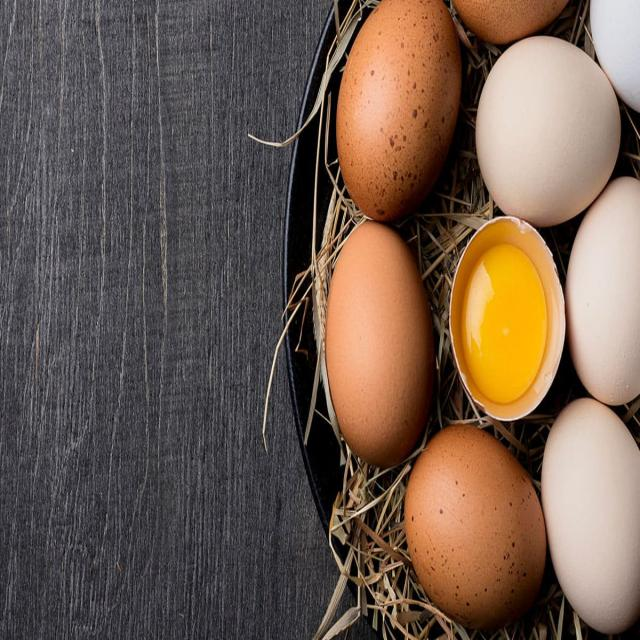huevos: (320, 216, 441, 467), (446, 212, 566, 428)
